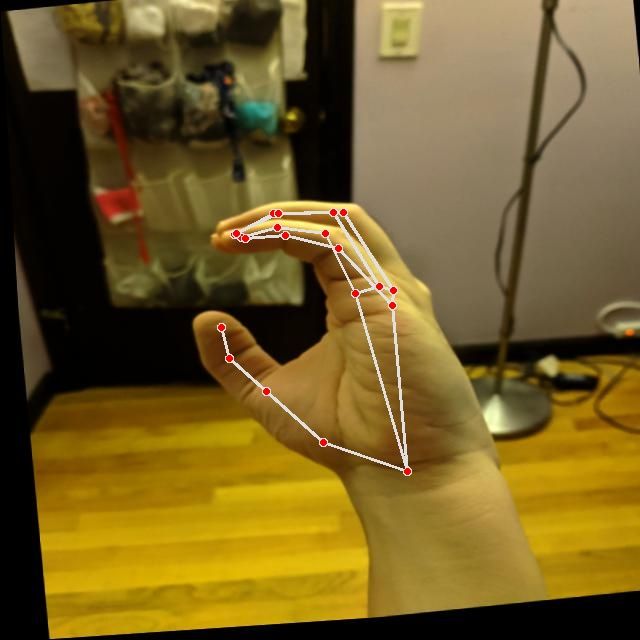C: (171, 181, 494, 501)
